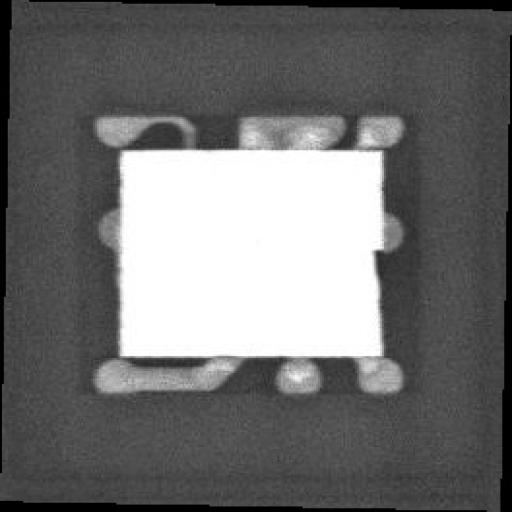DIE_BROKEN: (370, 245, 384, 278)
